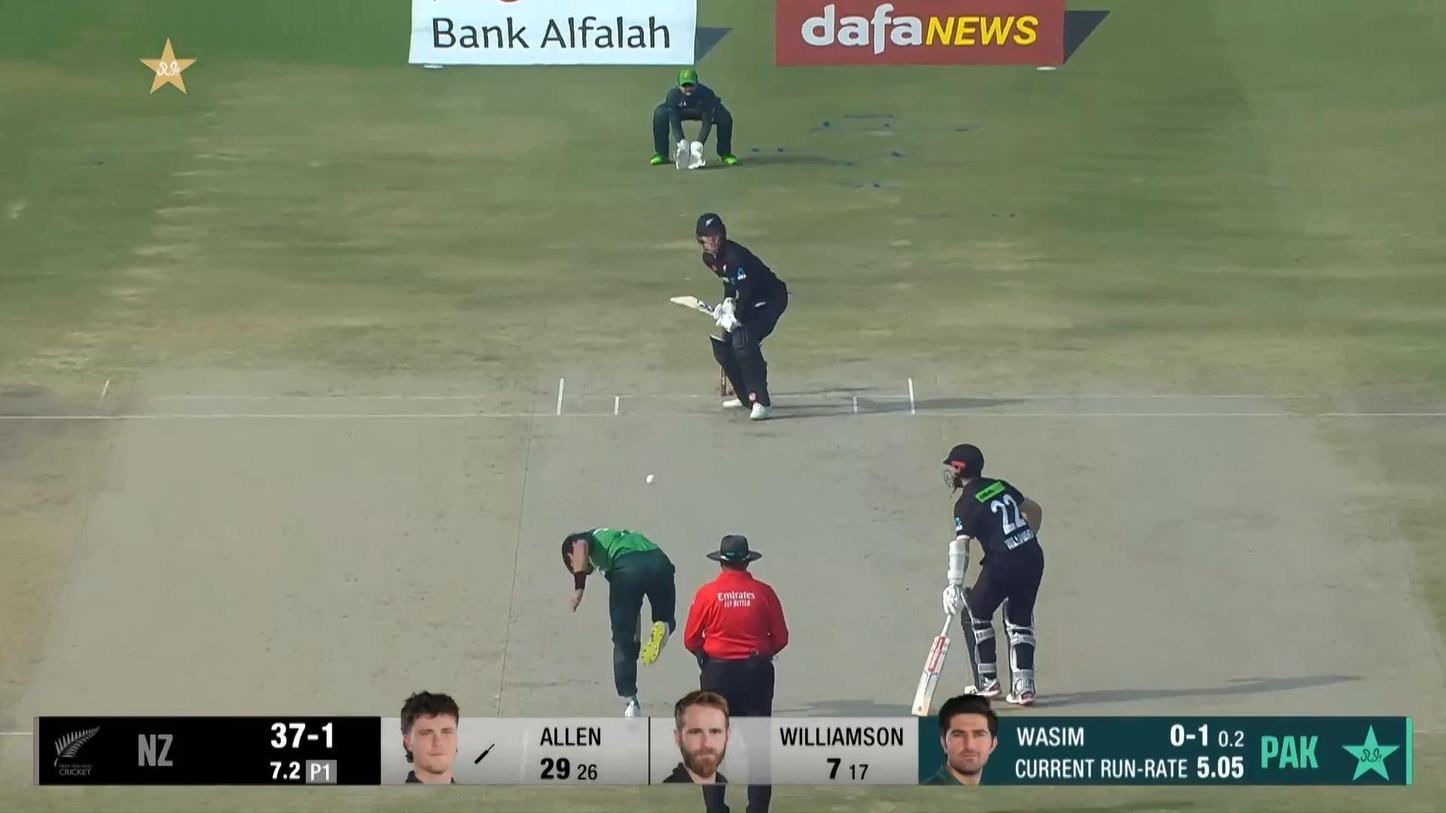BM 1: (668, 213, 789, 422)
BO: (560, 526, 678, 718)
